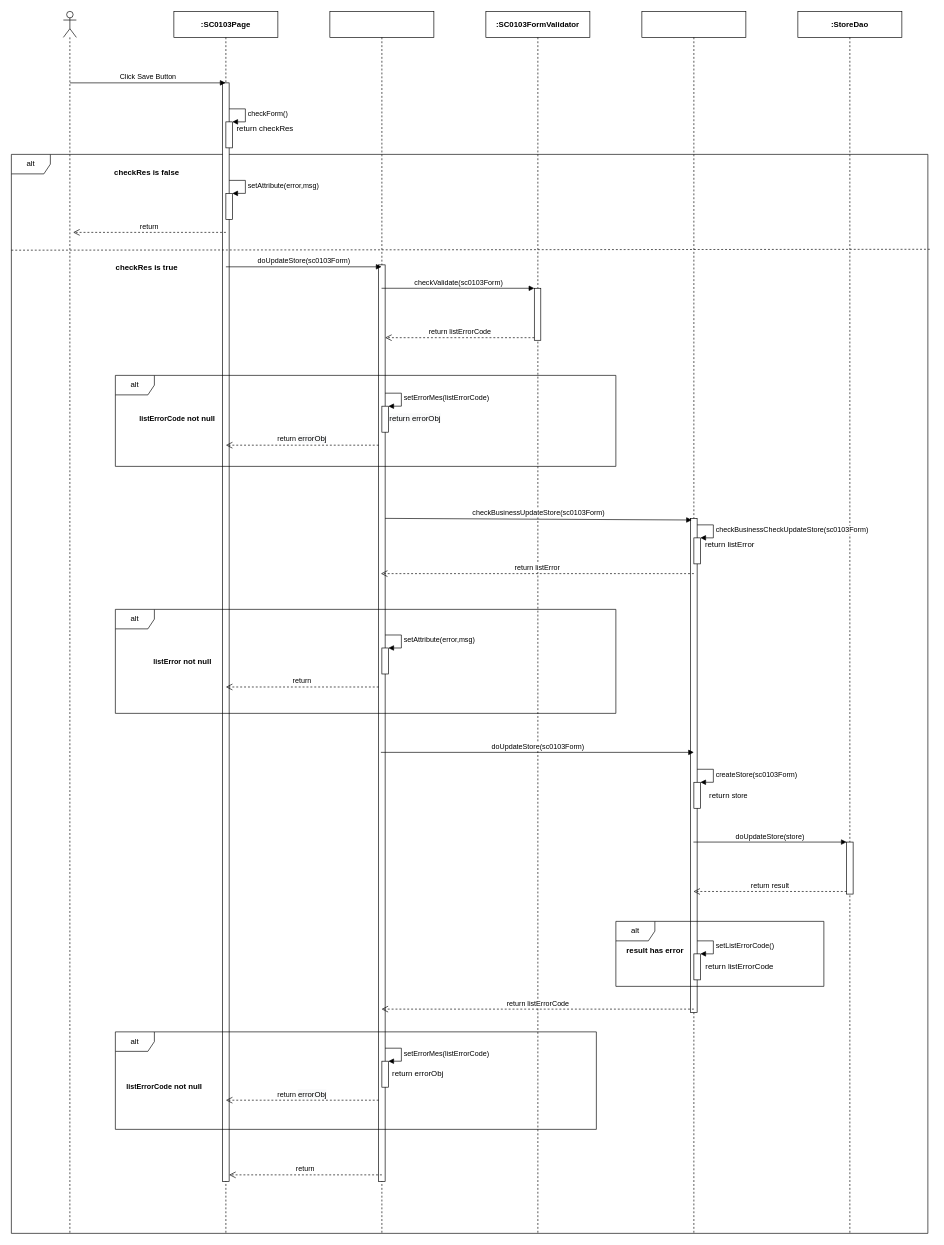
This 944x1245 diagram has some shape labels left out. Each missing label, with the box of its shape:
: SC0103 Service: (641, 11, 746, 1233)
:SC0103Controller: (329, 11, 434, 1233)
